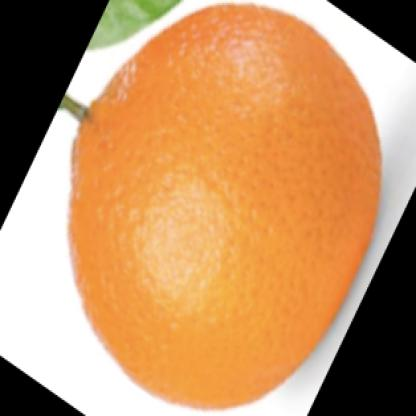fresh: (71, 7, 379, 410)
